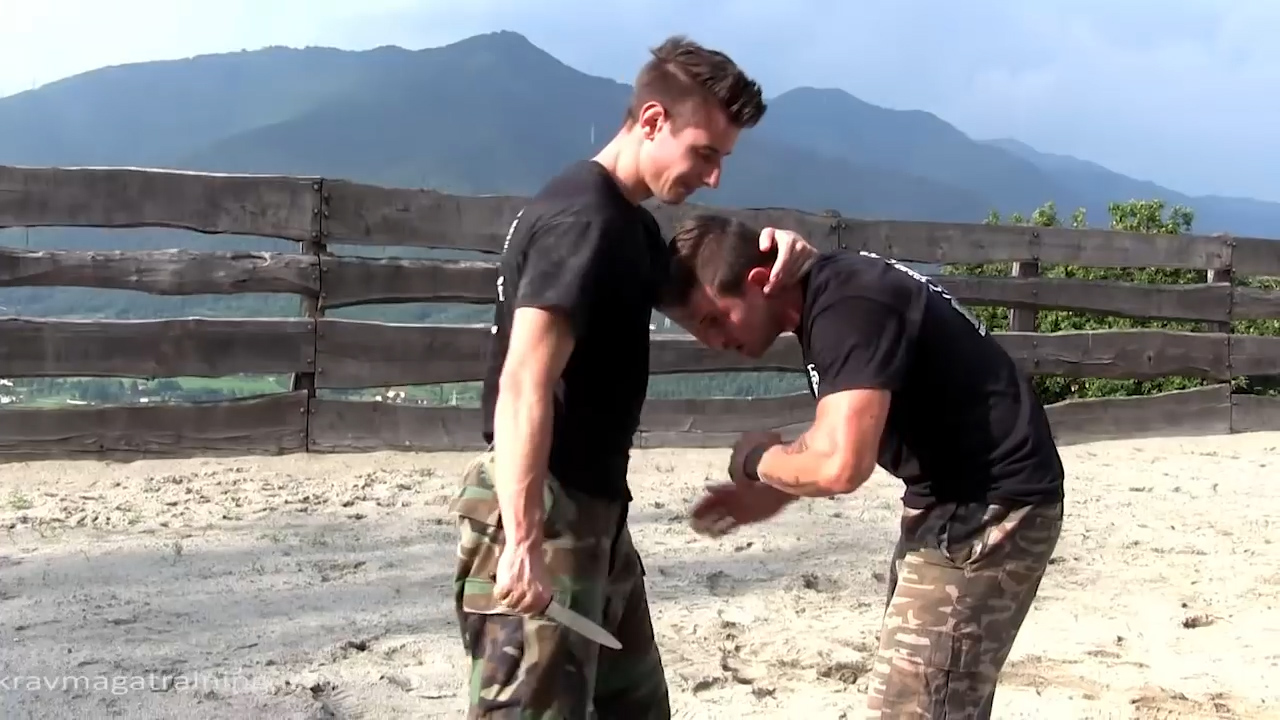knife: (485, 561, 631, 661)
